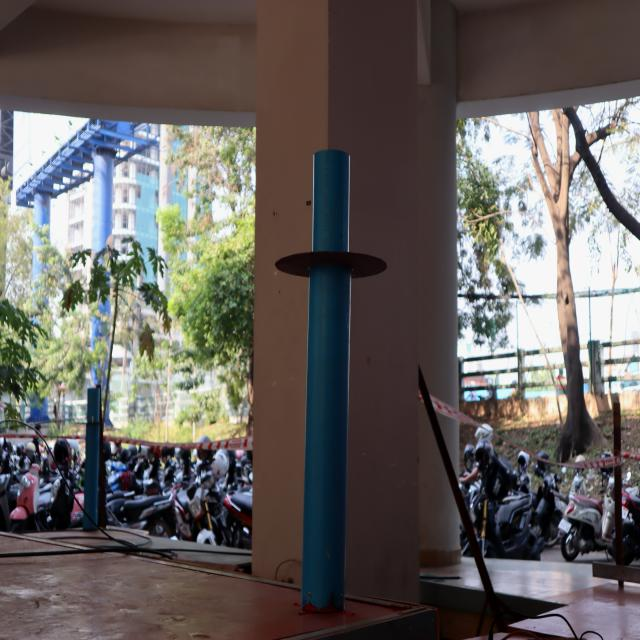pole: (265, 150, 387, 342)
